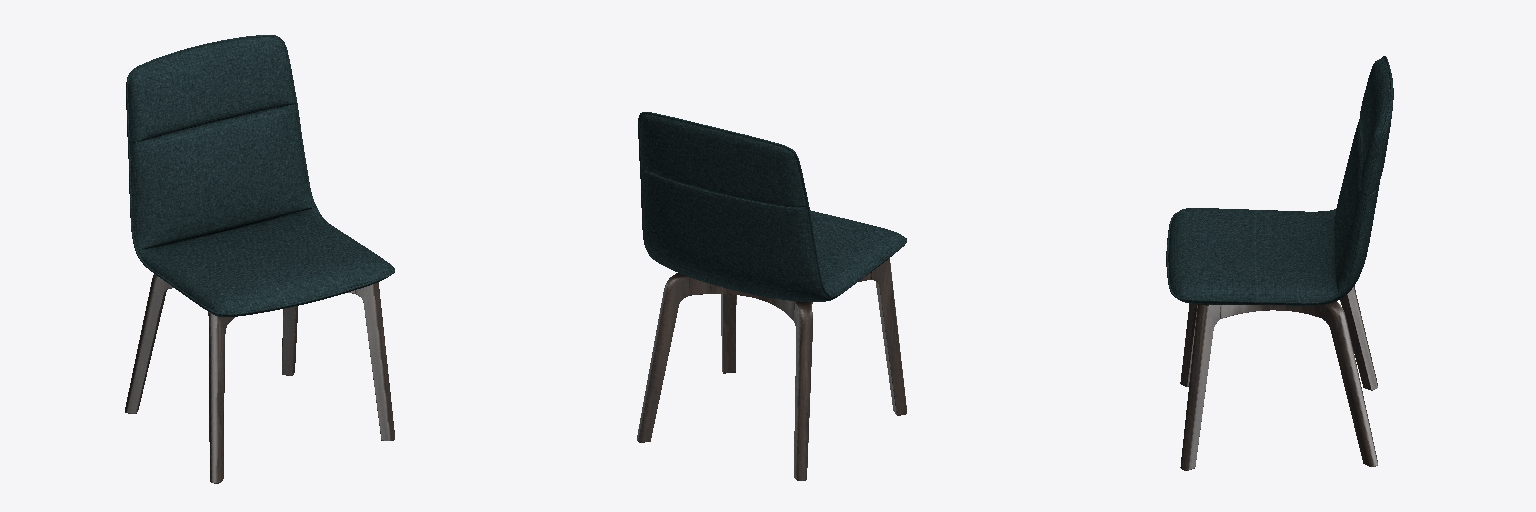
The picture shows the model from 3 angles: view 1: azimuth 30°, elevation 25°; view 2: azimuth 150°, elevation 25°; view 3: azimuth 270°, elevation 25°; orthographic projection.
Visible parts, largest first — view 1: solid_001, solid_002; view 2: solid_001, solid_002; view 3: solid_001, solid_002.
Part boxes in pixels (bbox=[...]): solid_001: bbox=[126, 35, 394, 316]; solid_002: bbox=[125, 274, 394, 483]; solid_001: bbox=[638, 112, 906, 301]; solid_002: bbox=[637, 258, 906, 480]; solid_001: bbox=[1166, 56, 1393, 305]; solid_002: bbox=[1180, 286, 1377, 470].
Bounding box in the file's own units: 0.8704 × 1.53 × 0.9301.
1 materials, 1 textured.